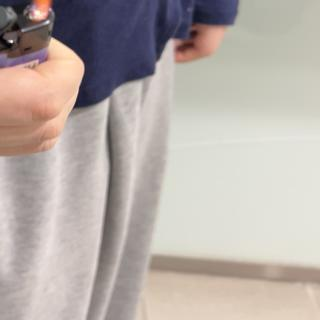fire: (27, 0, 56, 18)
